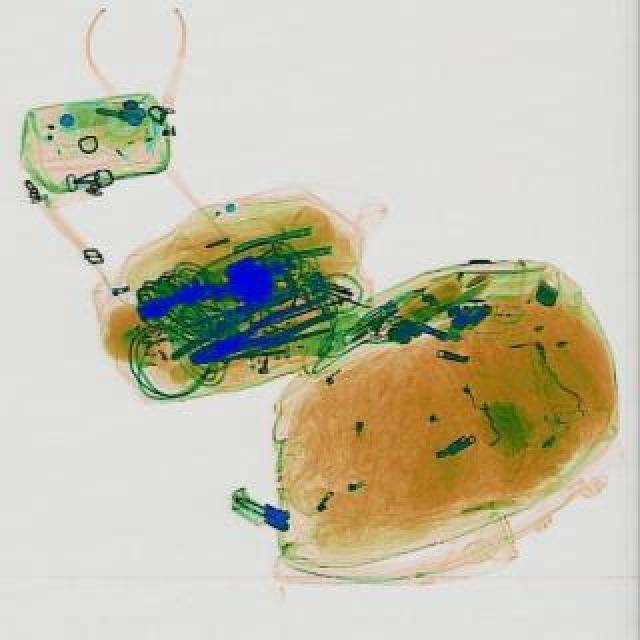wrench: (186, 298, 338, 378)
